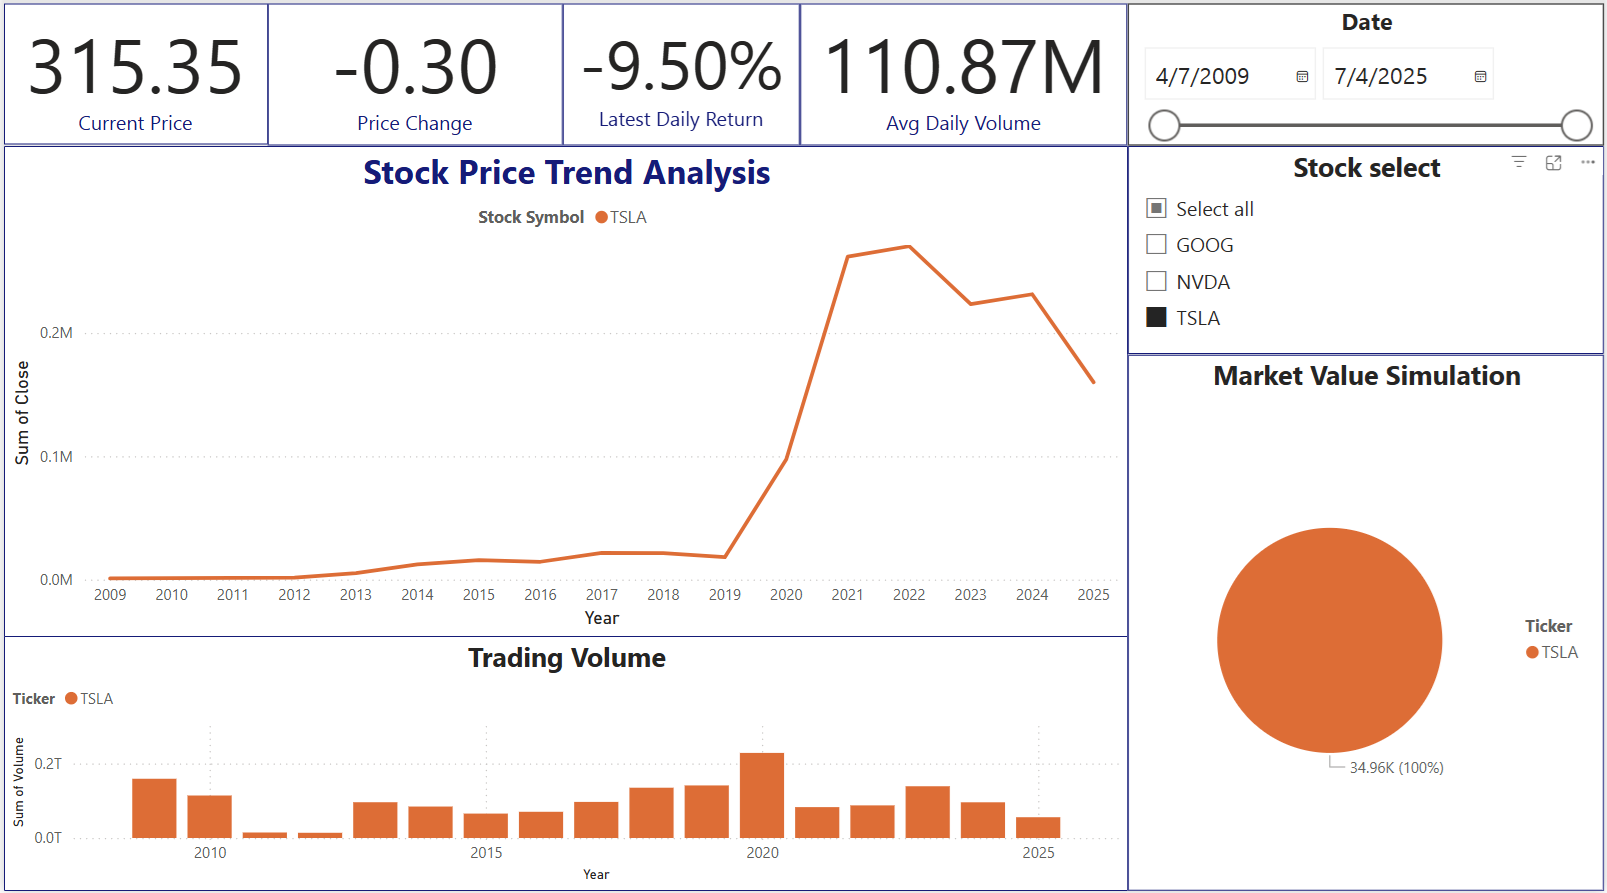

What the dashboard file says about the page in this screenshot:
{"tool":"powerbi","page":{"name":"Executive Dashboard","canvas":[1280,720],"ordinal":0},"visuals":[{"type":"lineChart","title":"Stock Price Trend Analysis","fields":{"Category":["Prices.Date.Variation.Date Hierarchy.Year","Prices.Date.Variation.Date Hierarchy.Quarter","Prices.Date.Variation.Date Hierarchy.Month","Prices.Date.Variation.Date Hierarchy.Day"],"Series":["Prices.Ticker"],"Y":["Sum(Prices.Close)"]},"box":[0,123.9,899.4,392.6],"z":0},{"type":"slicer","title":"Date","fields":{"Values":["Prices.Date"]},"box":[899.4,9.8,380.4,114.1],"z":1000},{"type":"card","fields":{"Values":["Prices.Current Price"]},"box":[0,9.6,211.3,113.9],"z":2000},{"type":"card","fields":{"Values":["Prices.Price Change"]},"box":[211.3,9.7,236,113.9],"z":3000},{"type":"card","fields":{"Values":["Prices.Avg Daily Volume"]},"box":[636.8,9.6,262.6,114.1],"z":4000},{"type":"columnChart","title":"Trading Volume","fields":{"Category":["Prices.Date.Variation.Date Hierarchy.Year","Prices.Date.Variation.Date Hierarchy.Quarter","Prices.Date.Variation.Date Hierarchy.Month","Prices.Date.Variation.Date Hierarchy.Day"],"Y":["Sum(Prices.Volume)"],"Series":["Prices.Ticker"]},"box":[0,516,898.8,204.5],"z":5000},{"type":"pieChart","title":"Market Value Simulation","fields":{"Category":["Prices.Ticker"],"Y":["Prices.Market Value Simulation"]},"box":[899.4,290.8,380.4,429.5],"z":6000},{"type":"card","fields":{"Values":["Prices.Latest Daily Return"]},"box":[446.6,9.6,190.2,114.1],"z":7000},{"type":"slicer","title":"Stock select","fields":{"Values":["Prices.Ticker"]},"box":[899.4,123.9,380.4,166.9],"z":8000}]}

Visuals, with their boxes in screenshot pixels (x1, y1, x2, y2), scaled from the page's 1280x720 canvas onto the 1607x893 screenshot:
"Stock Price Trend Analysis" lineChart: {"left": 0, "top": 154, "right": 1129, "bottom": 641}
"Date" slicer: {"left": 1129, "top": 12, "right": 1606, "bottom": 154}
card - Prices.Current Price: {"left": 0, "top": 12, "right": 265, "bottom": 153}
card - Prices.Price Change: {"left": 265, "top": 12, "right": 562, "bottom": 153}
card - Prices.Avg Daily Volume: {"left": 799, "top": 12, "right": 1129, "bottom": 153}
"Trading Volume" columnChart: {"left": 0, "top": 640, "right": 1128, "bottom": 892}
"Market Value Simulation" pieChart: {"left": 1129, "top": 361, "right": 1606, "bottom": 892}
card - Prices.Latest Daily Return: {"left": 561, "top": 12, "right": 799, "bottom": 153}
"Stock select" slicer: {"left": 1129, "top": 154, "right": 1606, "bottom": 361}
